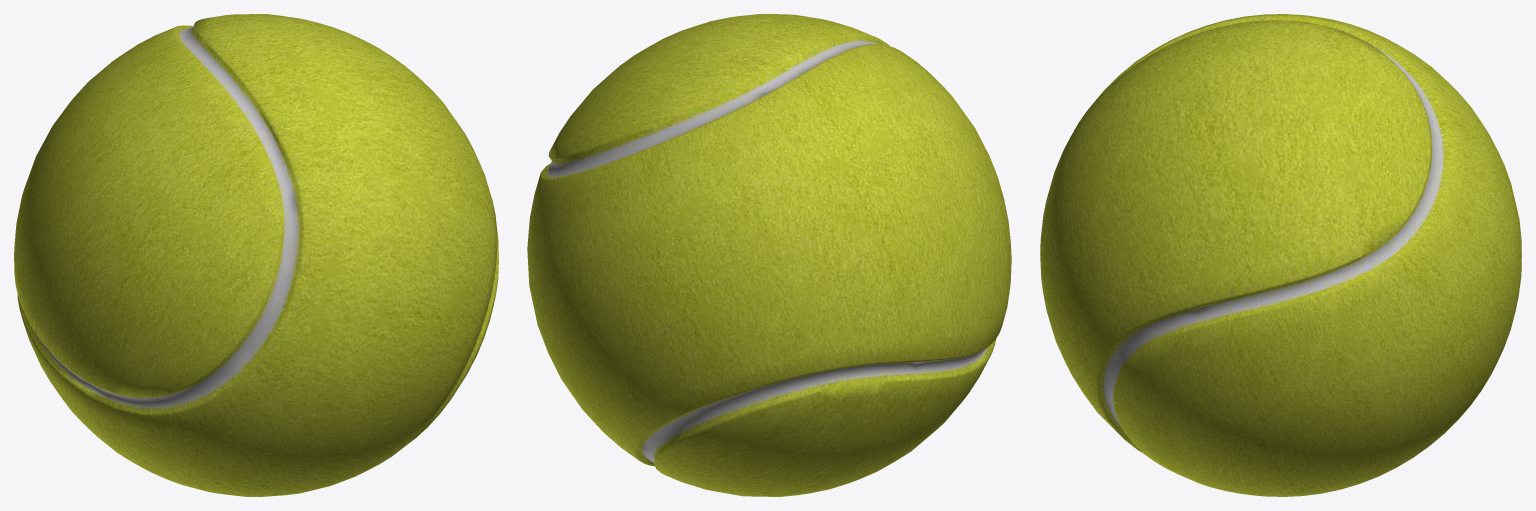
The model's file is sf_tennis_ball_2.glb.
The picture shows the model from 3 angles, left to right: view 1: azimuth 30°, elevation 25°; view 2: azimuth 150°, elevation 25°; view 3: azimuth 270°, elevation 25°; orthographic projection.
Parts seen in each view (by area): view 1: Object_2; view 2: Object_2; view 3: Object_2.
Boxes of the visible parts, <box> form: Object_2: <box>14,14,498,496</box>; Object_2: <box>527,14,1011,496</box>; Object_2: <box>1040,14,1521,496</box>.
Bounding box in the file's own units: 0.067 × 0.067 × 0.0669.
Materials: 1 (1 with a texture image).
